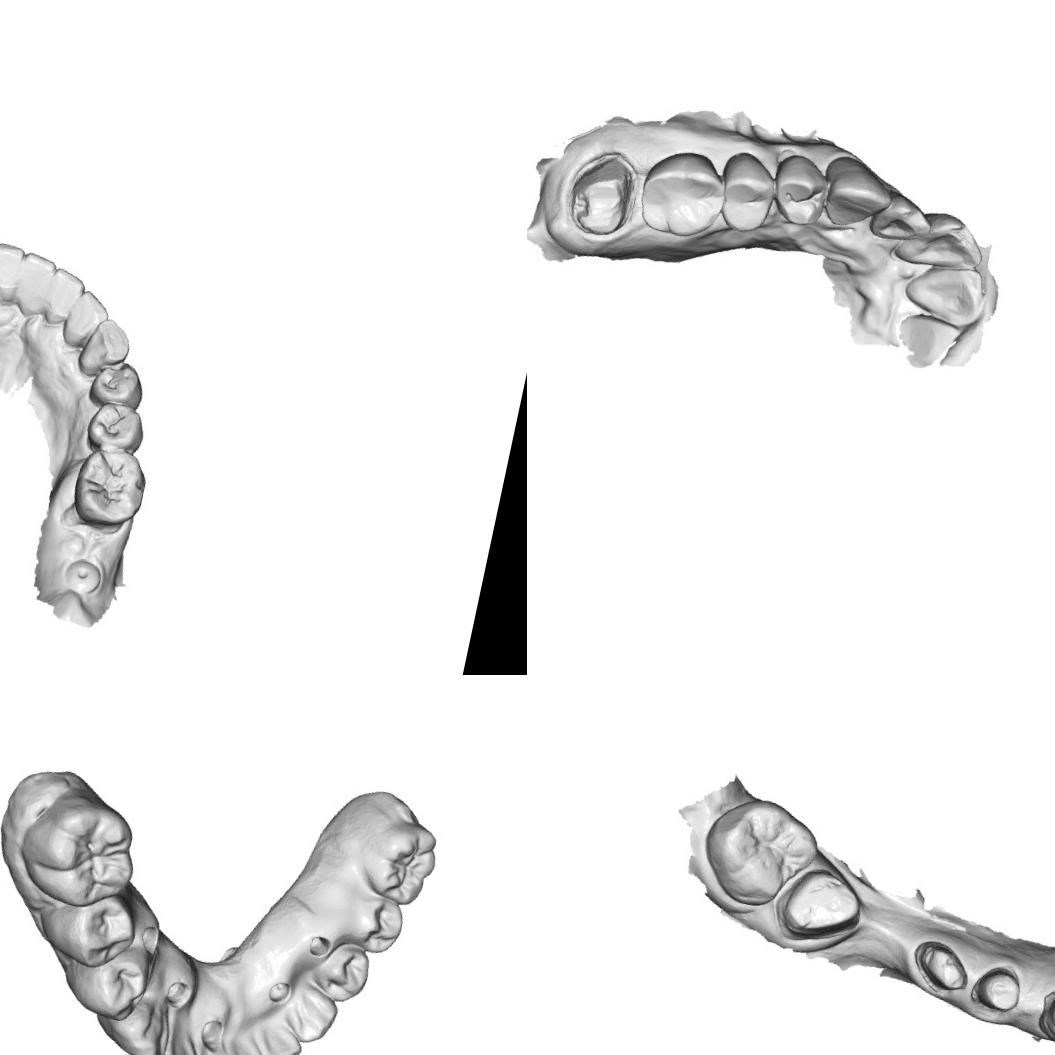canine: (814, 151, 900, 237), (102, 990, 173, 1055), (74, 312, 136, 384), (277, 983, 343, 1050), (1032, 974, 1055, 1055)
crown: (768, 859, 872, 955), (557, 144, 647, 250), (902, 932, 978, 1002), (966, 957, 1030, 1024)
incisor: (892, 203, 992, 280), (896, 254, 990, 331), (866, 188, 937, 250), (59, 286, 114, 354), (12, 246, 59, 319), (42, 265, 89, 331), (152, 1016, 210, 1055), (0, 233, 28, 313), (248, 1023, 306, 1055), (225, 1030, 276, 1055), (190, 1038, 239, 1055)
molar: (692, 786, 828, 918), (11, 786, 146, 917), (632, 142, 734, 244), (66, 440, 154, 534), (358, 815, 443, 909)
premolar: (710, 146, 784, 238), (58, 890, 140, 971), (77, 942, 153, 1023), (766, 150, 834, 230), (342, 884, 412, 958), (314, 936, 376, 1006), (82, 397, 150, 460), (86, 356, 149, 414)
